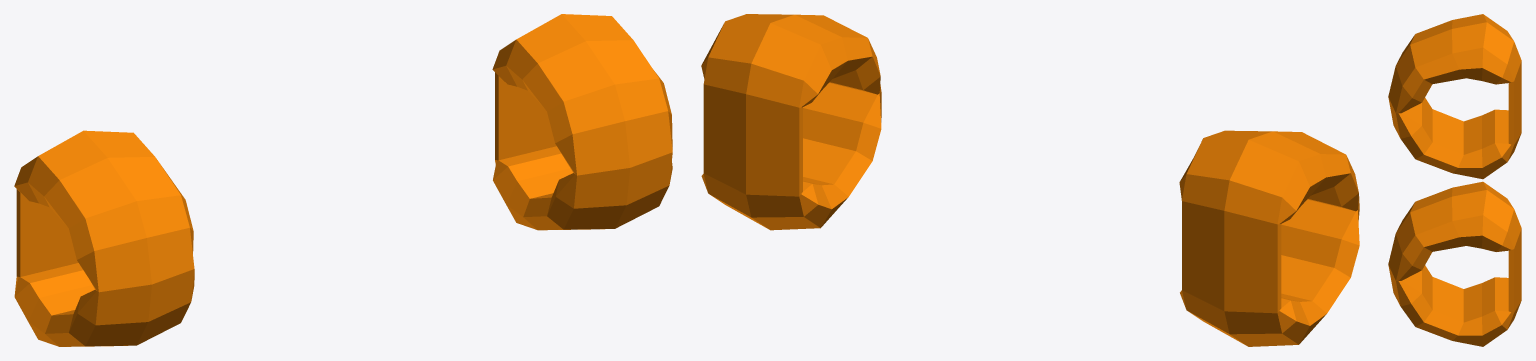
The model's file is ArmPuffs.glb.
The picture shows the model from 3 angles, left to right: view 1: azimuth 30°, elevation 25°; view 2: azimuth 150°, elevation 25°; view 3: azimuth 270°, elevation 25°; orthographic projection. The views are drawn at different scales.
Visible parts, largest first — view 1: ArmPuffs; view 2: ArmPuffs; view 3: ArmPuffs.
Part boxes in pixels (bbox=[...]): ArmPuffs: bbox=[14, 14, 672, 346]; ArmPuffs: bbox=[701, 14, 1359, 346]; ArmPuffs: bbox=[1388, 14, 1521, 346].
Bounding box in the file's own units: 0.56 × 0.1864 × 0.1514.
1 material, 1 textured.
